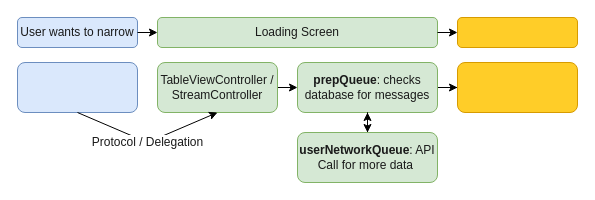
Some shapes in this 595 by 200 pixel diagram are drawn without their labels. The shapes that lost their labels are listed below. From the top down, each one's box as (x1, y1, x2, y2) in pixels, then its label:
(456, 16, 578, 48): New Messages Displayed
(16, 62, 138, 112): User presses UIButton in tableView header or side menu
(456, 62, 578, 112): batch update TableViewController
